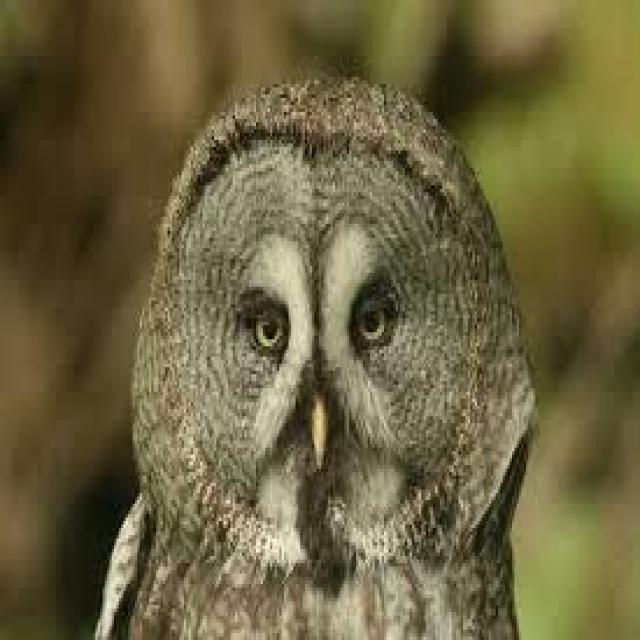Owl: (114, 79, 545, 640)
